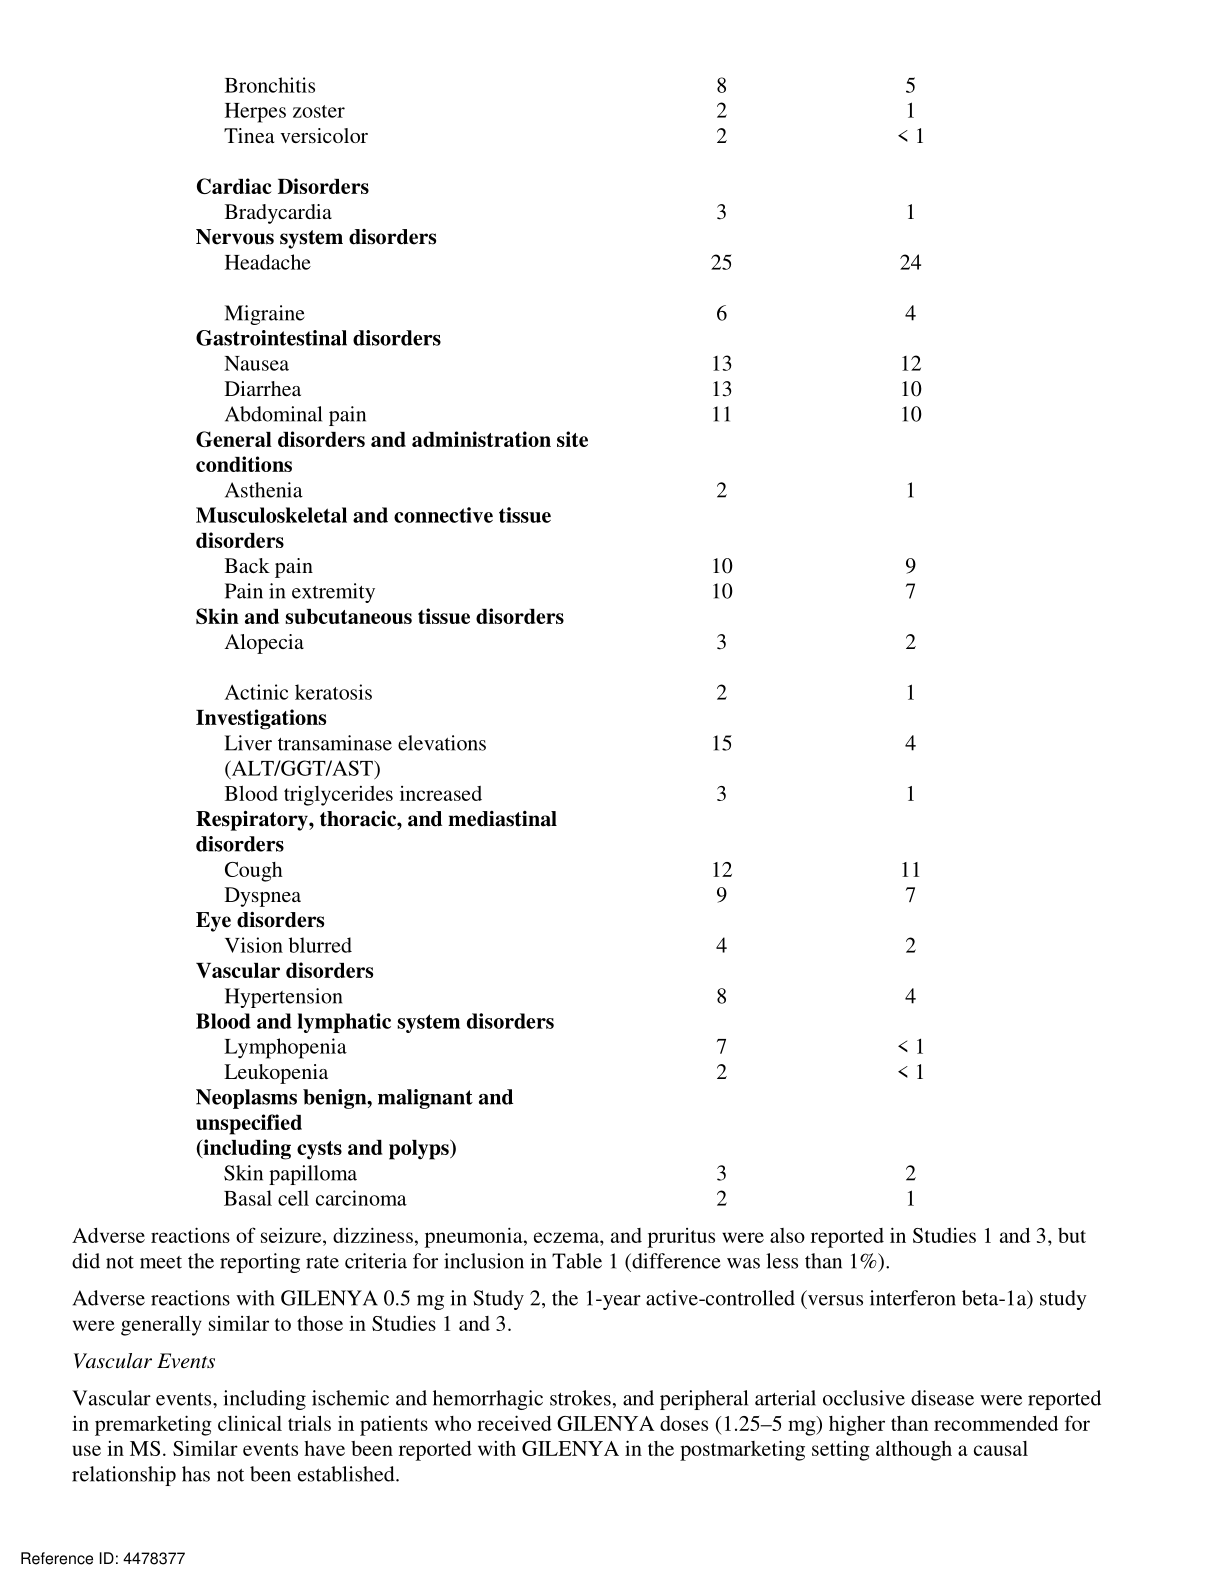nolines: (192, 73, 928, 1209)
